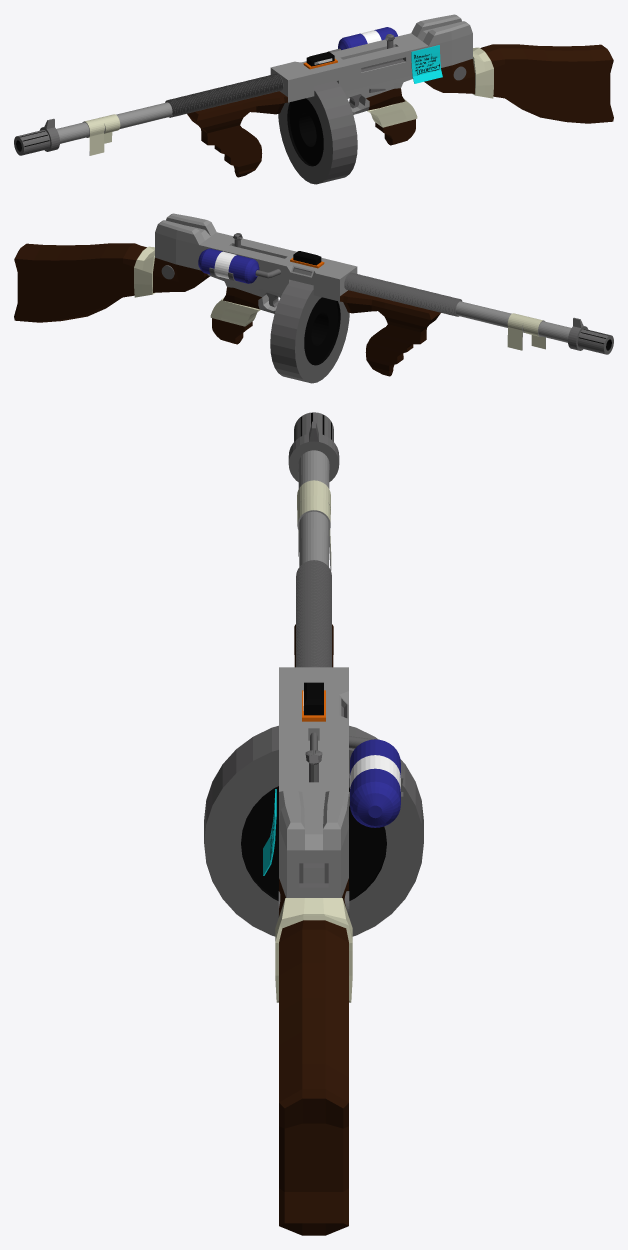
Rendered from smgpaper.fbx.
3 renders of one model, top to bottom at view 1: azimuth 30°, elevation 25°; view 2: azimuth 150°, elevation 25°; view 3: azimuth 270°, elevation 25°, orthographic. The views are drawn at different scales.
Parts seen in each view (by area): view 1: SMG; view 2: SMG; view 3: SMG.
Boxes of the visible parts, bbox=[...] form: SMG: bbox=[14, 14, 613, 184]; SMG: bbox=[14, 213, 613, 383]; SMG: bbox=[204, 412, 423, 1235].
Bounding box in the file's own units: 376 × 84.01 × 60.89.
Materials: 11 (1 with a texture image).
